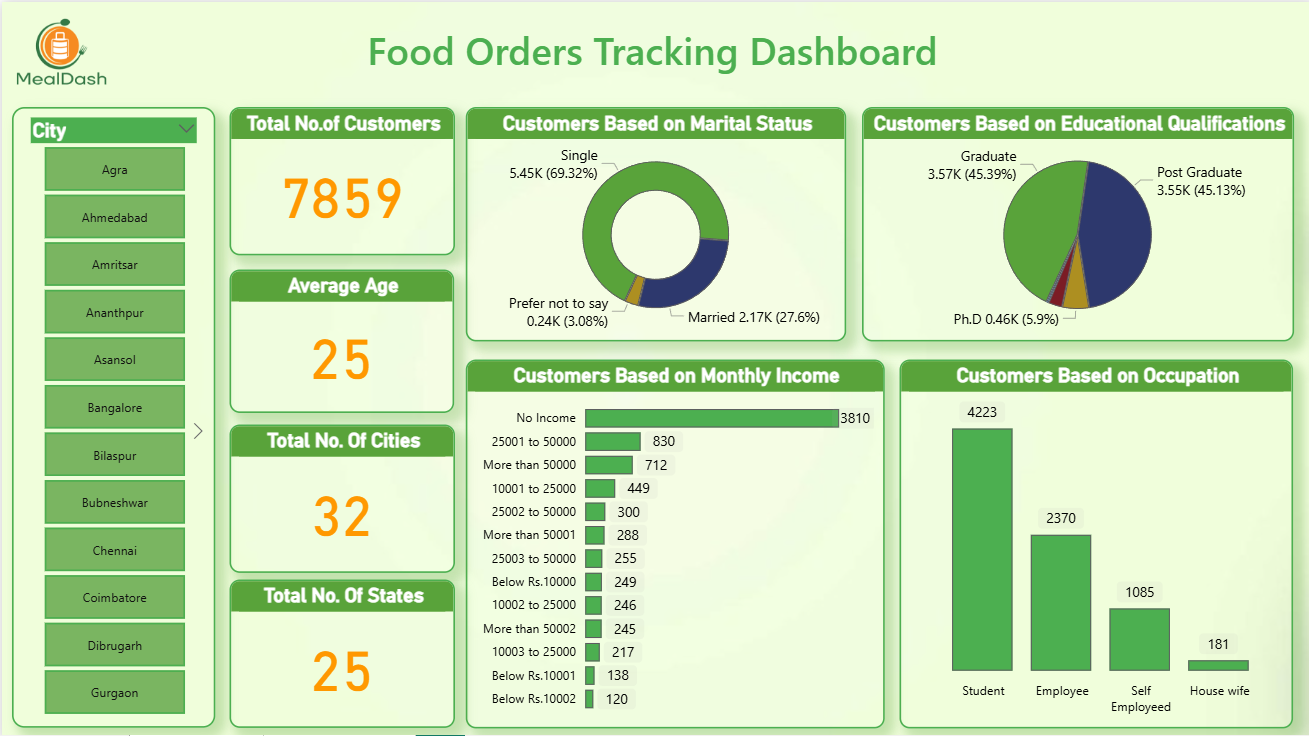

What the dashboard file says about the page in this screenshot:
{"tool":"powerbi","page":{"name":"Customer Data","canvas":[1280,720],"ordinal":1},"visuals":[{"type":"image","box":[10,0,96.7,96.7],"z":0},{"type":"card","title":"Total No.of Customers","fields":{"Values":["CountNonNull(Data.Sl. No)"]},"box":[222,102.7,220,144.7],"z":1000},{"type":"card","title":"Average Age","fields":{"Values":["Avg(Data.Age)"]},"box":[222.5,260.8,219.2,140],"z":2000},{"type":"donutChart","title":"Customers Based on Marital Status","fields":{"Category":["Data.Marital Status"],"Y":["CountNonNull(Data.Sl. No)"]},"box":[452.9,102.9,371.4,228.6],"z":3000},{"type":"textbox","box":[351.1,16.9,576.7,63.9],"z":4000},{"type":"columnChart","title":"Customers Based on Occupation","fields":{"Category":["Data.Occupation"],"Y":["CountNonNull(Data.Sl. No)"]},"box":[875.7,348.6,384.3,360],"z":5000},{"type":"pieChart","title":"Customers Based on Educational Qualifications","fields":{"Category":["Data.Educational Qualifications"],"Y":["CountNonNull(Data.Sl. No)"]},"box":[838.6,102.9,421.4,228.6],"z":6000},{"type":"barChart","title":"Customers Based on Monthly Income","fields":{"Category":["Data.Monthly Income"],"Y":["CountNonNull(Data.Sl. No)"]},"box":[452.9,348.6,408.6,360],"z":7000},{"type":"slicer","fields":{"Values":["Data.City"]},"box":[10,102.9,198.6,605.7],"z":8000},{"type":"card","title":"Total No. Of Cities","fields":{"Values":["Count(Data.City)"]},"box":[221.7,411.7,220,145],"z":9000},{"type":"card","title":"Total No. Of States","fields":{"Values":["Count(Data.State)"]},"box":[221.7,563.3,220,145],"z":10000}]}

Visuals, with their boxes in screenshot pixels (x1, y1, x2, y2), scaled from the page's 1280x720 canvas onto the 1309x736 screenshot:
image: [10,0,109,99]
"Total No.of Customers" card: [227,105,452,253]
"Average Age" card: [228,267,452,410]
"Customers Based on Marital Status" donutChart: [463,105,843,339]
textbox: [359,17,949,83]
"Customers Based on Occupation" columnChart: [896,356,1289,724]
"Customers Based on Educational Qualifications" pieChart: [858,105,1289,339]
"Customers Based on Monthly Income" barChart: [463,356,881,724]
slicer - Data.City: [10,105,213,724]
"Total No. Of Cities" card: [227,421,452,569]
"Total No. Of States" card: [227,576,452,724]
